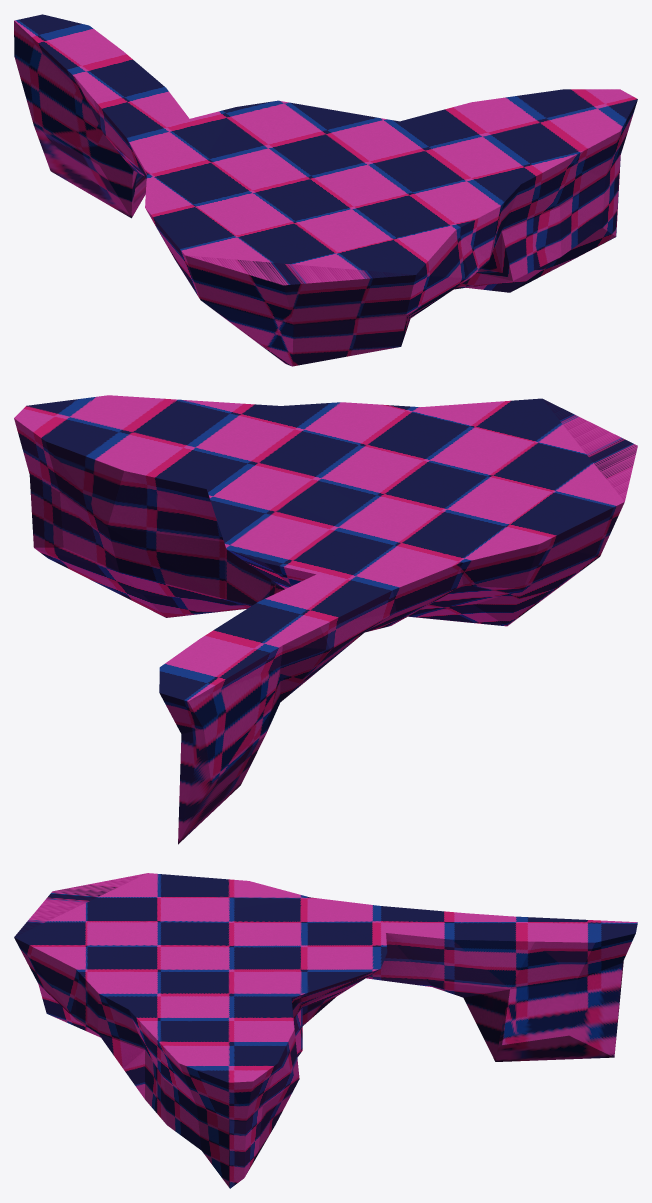
File: BigFloat.fbx
The picture shows the model from 3 angles, top to bottom: view 1: azimuth 30°, elevation 25°; view 2: azimuth 150°, elevation 25°; view 3: azimuth 270°, elevation 25°; orthographic projection. The views are drawn at different scales.
Visible parts, largest first — view 1: Cube.003; view 2: Cube.003; view 3: Cube.003.
Boxes of the visible parts, x1,y1,x2,y2 form: Cube.003: [14, 14, 637, 366]; Cube.003: [14, 395, 637, 844]; Cube.003: [14, 873, 637, 1188].
Size of the model in its own units: 1005 by 312 by 1263.
